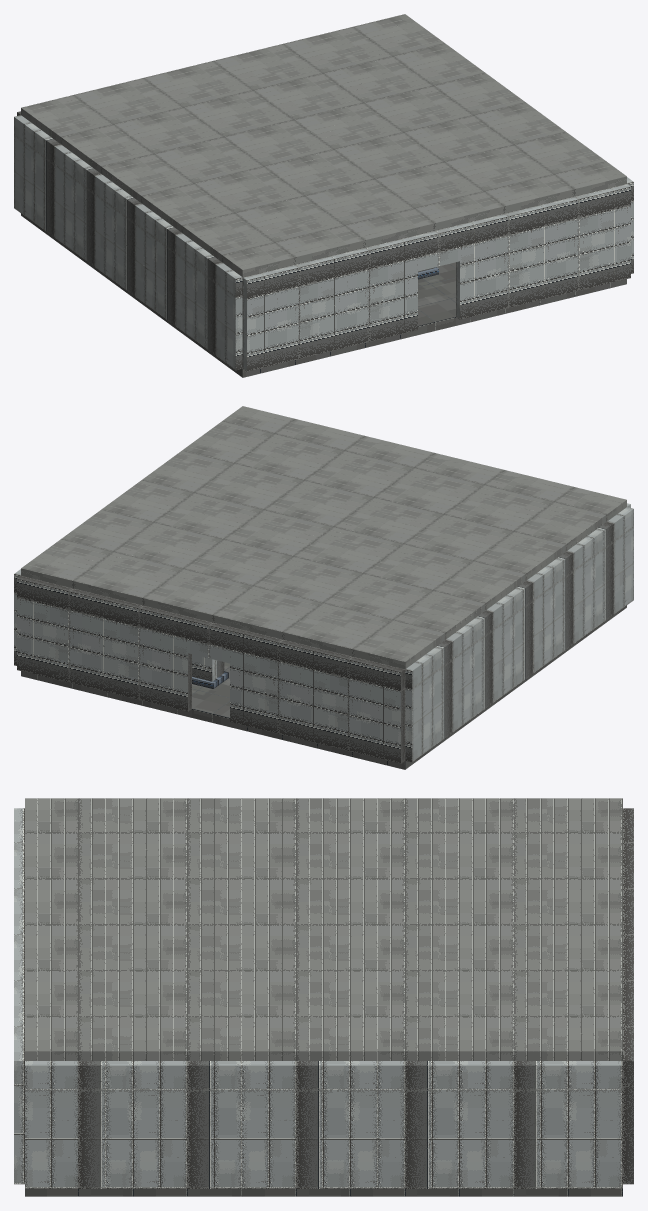
Rendered from shell_arena_pillars.glb.
3 views of the same model, one above another, from view 1: azimuth 30°, elevation 25°; view 2: azimuth 150°, elevation 25°; view 3: azimuth 270°, elevation 25° (orthographic). The views are drawn at different scales.
Parts seen in each view (by area): view 1: shell_arena_pillars; view 2: shell_arena_pillars; view 3: shell_arena_pillars.
Boxes of the visible parts, x1=… form: shell_arena_pillars: x1=14, y1=14, x2=633, y2=377; shell_arena_pillars: x1=14, y1=406, x2=633, y2=769; shell_arena_pillars: x1=14, y1=798, x2=633, y2=1196.
Bounding box in the file's own units: 22.8 × 5.9 × 22.8.
Materials: 62 (62 with a texture image).
